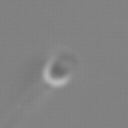normal: (2, 83, 50, 128)
